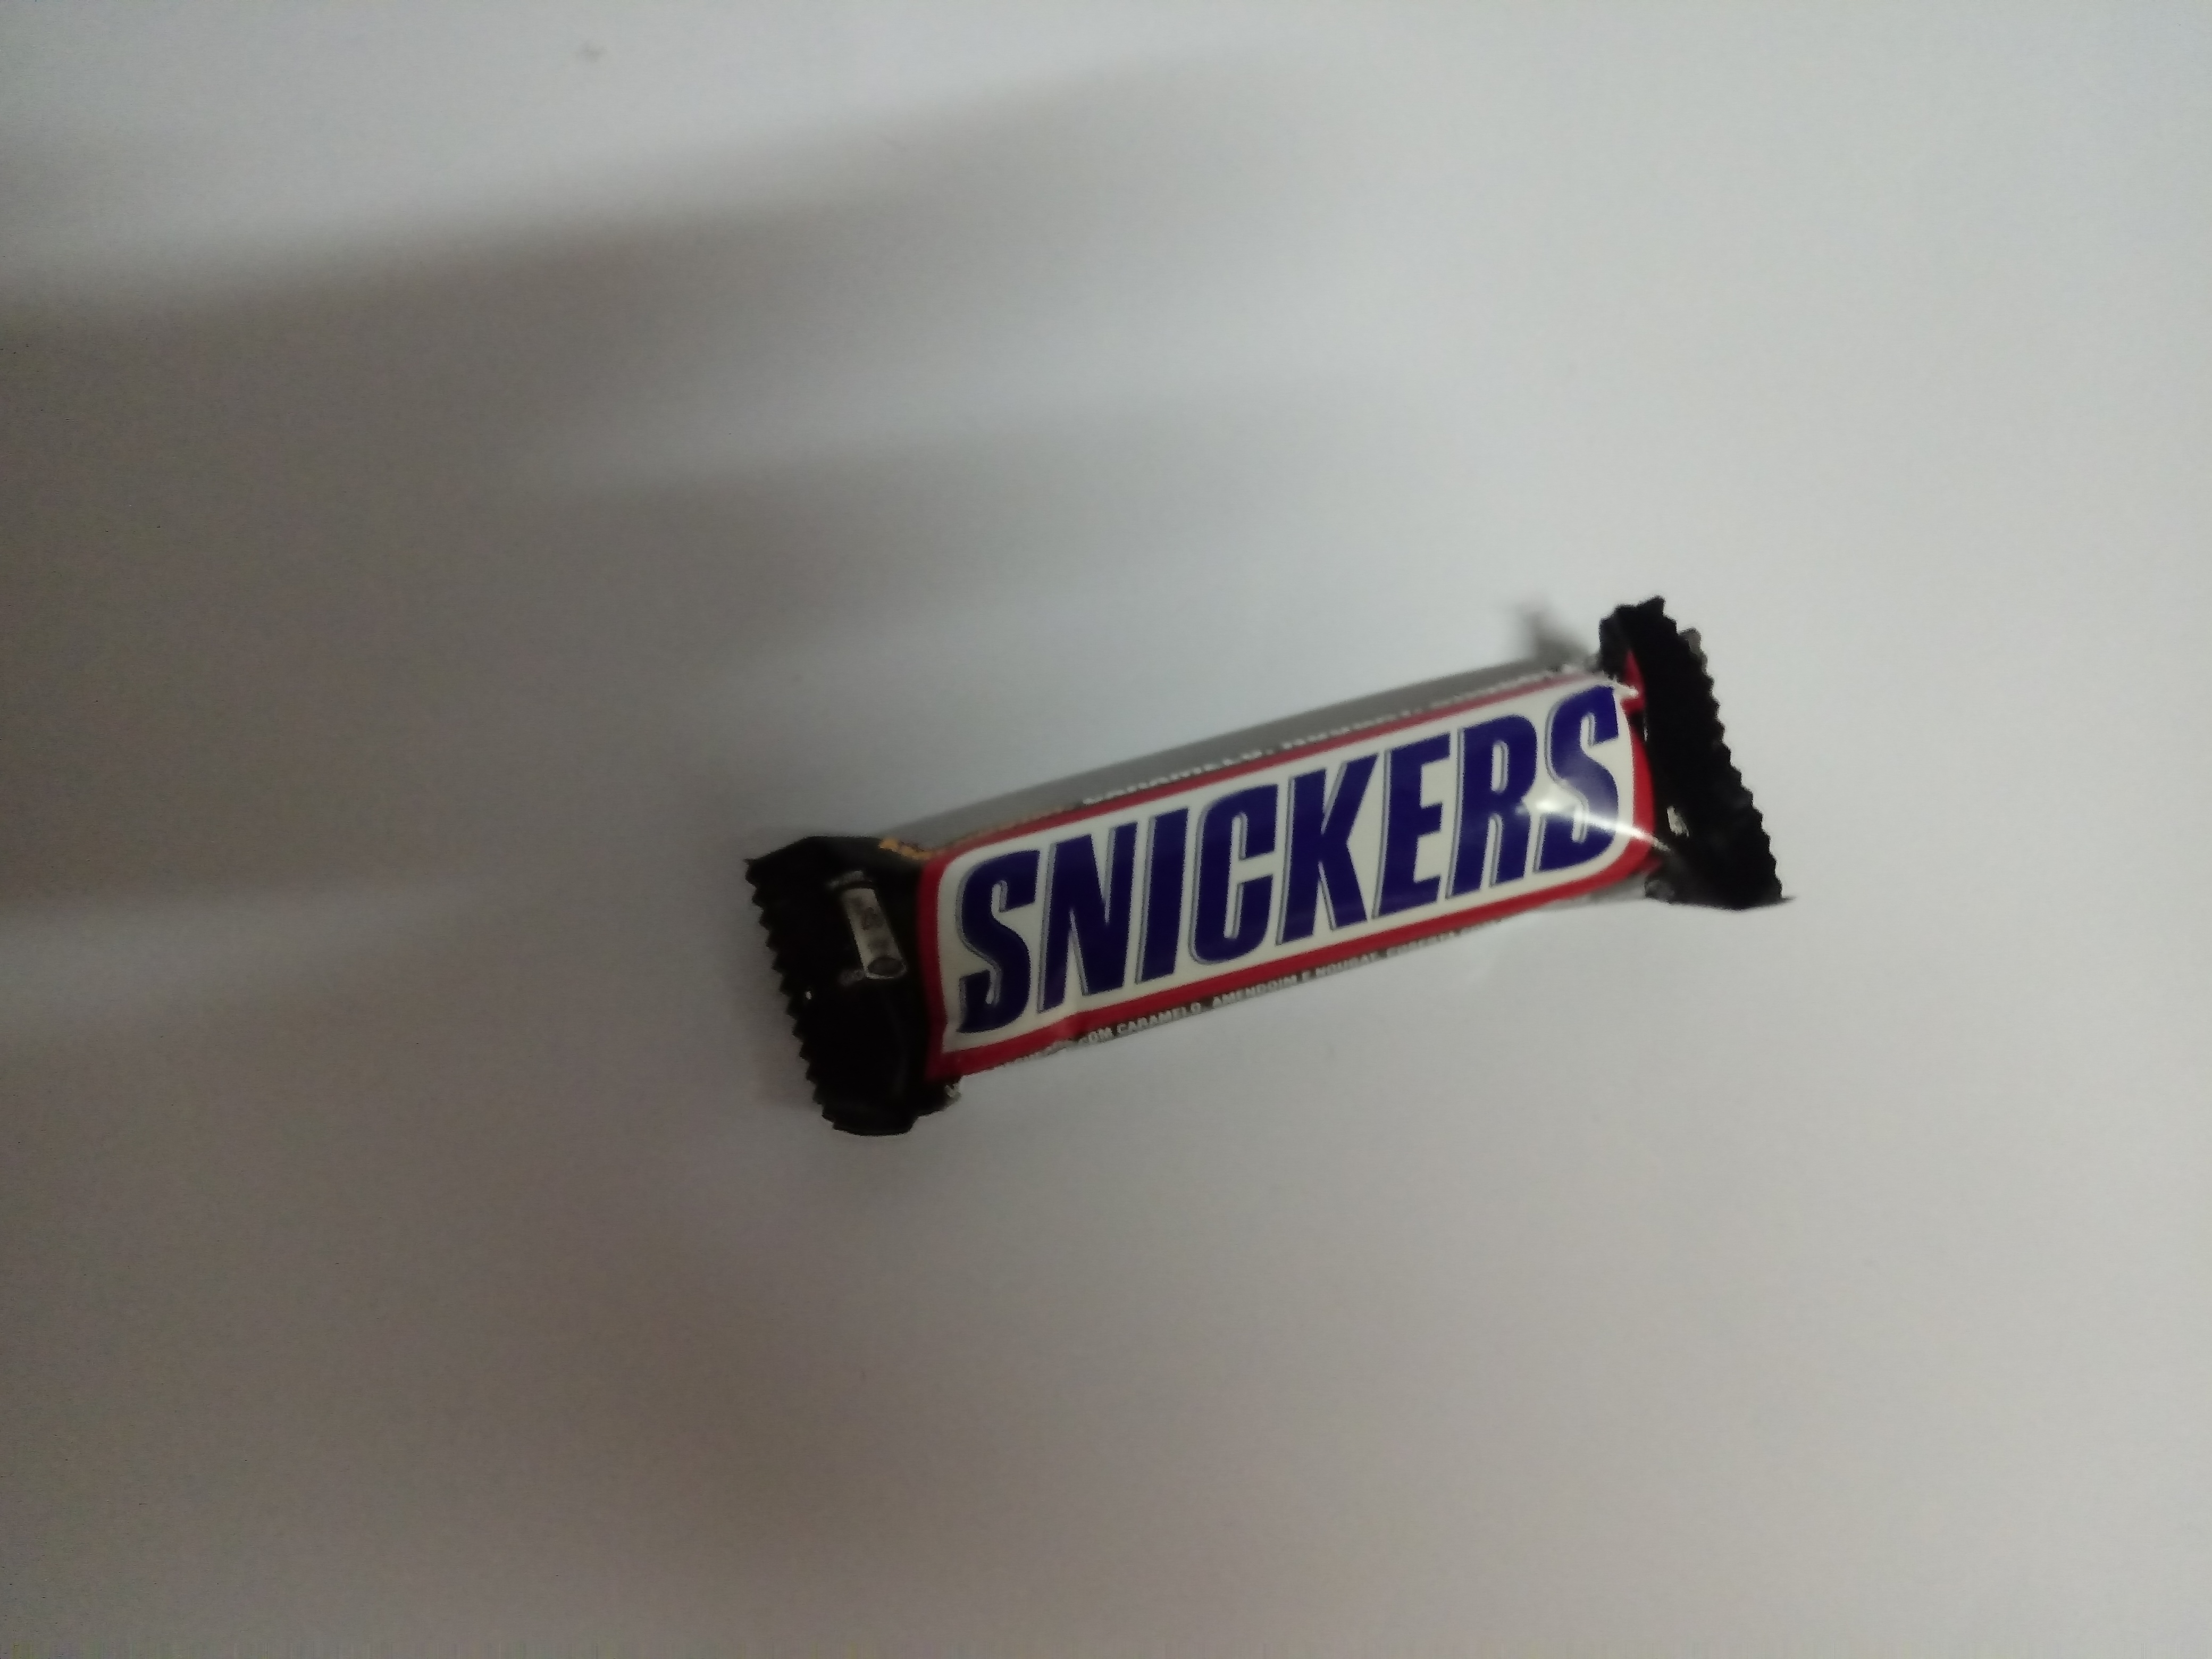snickers: (726, 589, 1825, 1161)
